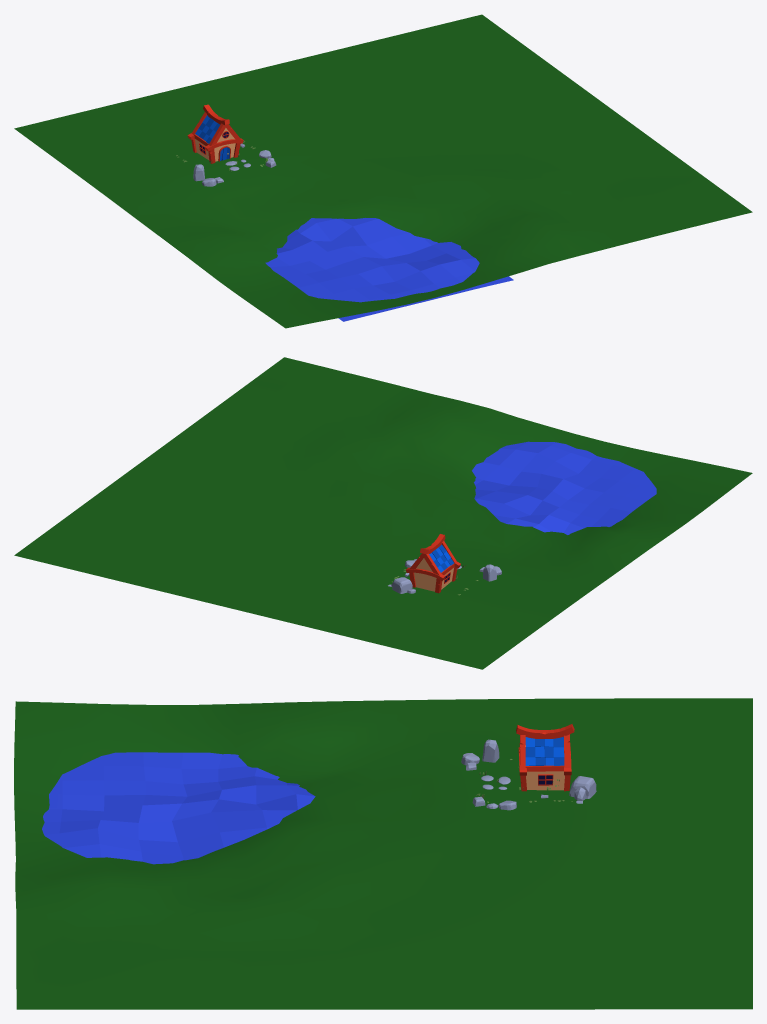
Rendered from girl2.fbx.
3 views of the same model, one above another, from view 1: azimuth 30°, elevation 25°; view 2: azimuth 150°, elevation 25°; view 3: azimuth 270°, elevation 25° (orthographic). The views are drawn at different scales.
Visible parts, largest first — view 1: Landscape_plane.001, Plane.001, Plane; view 2: Landscape_plane.001, Plane.001, Plane, PAREDES; view 3: Landscape_plane.001, Plane.001, Plane, PAREDES, Cubo.004.
Part boxes in pixels (x1,y1,x2,y2): Landscape_plane.001: (14, 14, 752, 328); Plane.001: (266, 218, 513, 321); Plane: (266, 218, 513, 320); Landscape_plane.001: (14, 357, 752, 669); Plane.001: (472, 441, 656, 517); Plane: (472, 451, 656, 534); PAREDES: (414, 558, 453, 591); Landscape_plane.001: (14, 698, 752, 1009); Plane.001: (42, 752, 299, 864); Plane: (133, 752, 315, 857); PAREDES: (525, 745, 564, 790); Cubo.004: (516, 724, 574, 738).
Bounding box in the file's own units: 158 × 21.35 × 159.
